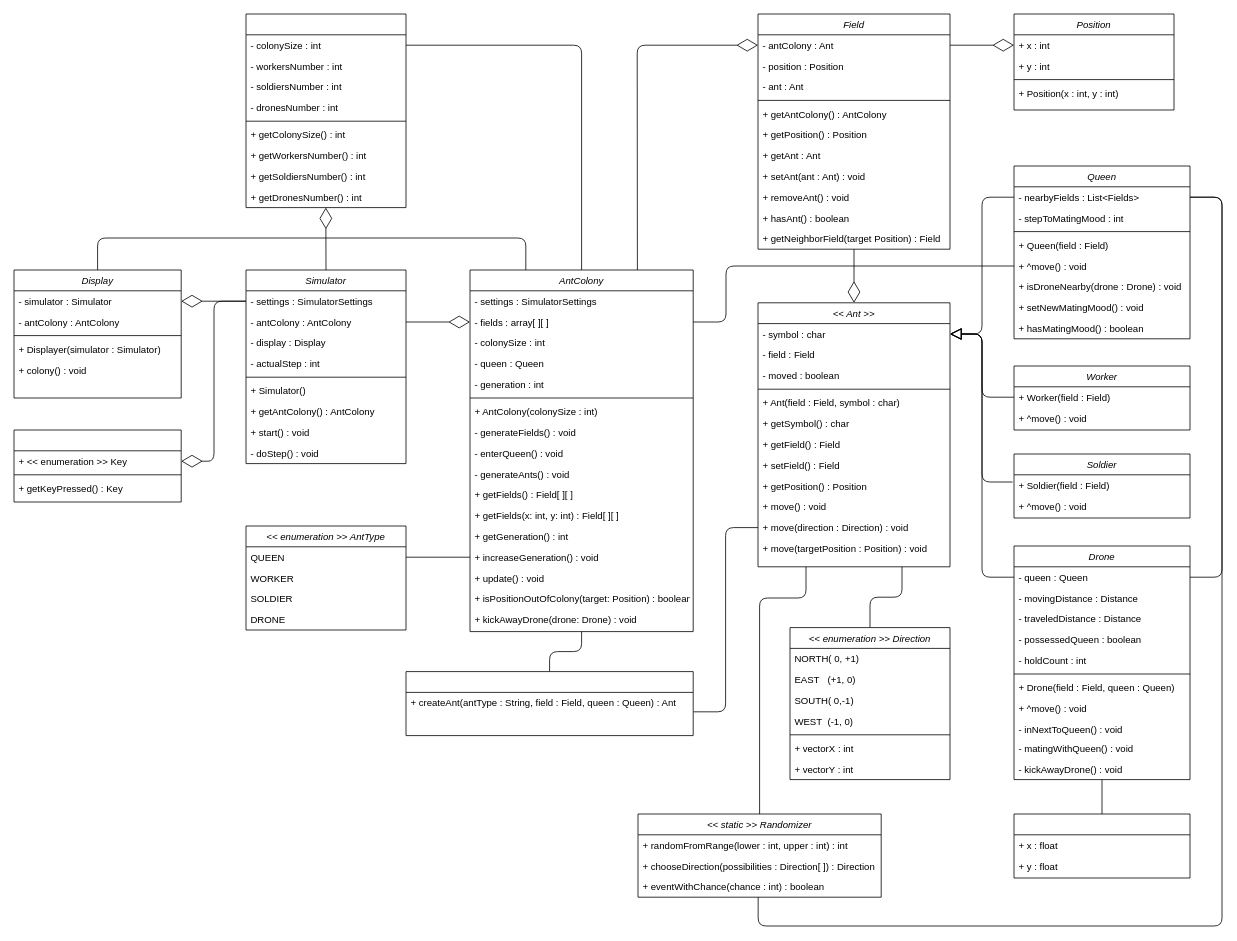
Image size: 1237x941. Some labels were removed from this diagram. The box of each missing label's shape, as (x1, y1, x2, y2) in pixels:
AntFactory: (405, 671, 693, 736)
Distance: (1013, 813, 1190, 878)
Keyboard: (13, 429, 181, 502)
SimulatorSimulator: (245, 13, 406, 208)
